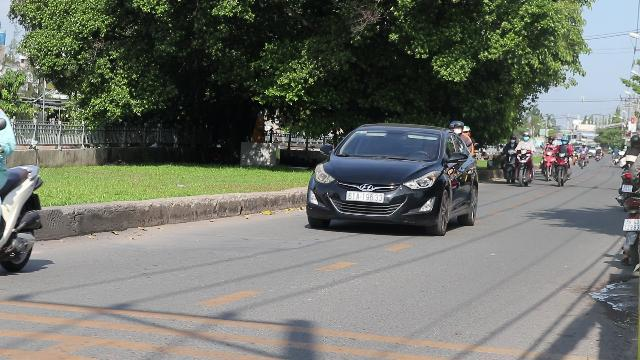licenseplate: (624, 218, 640, 230)
